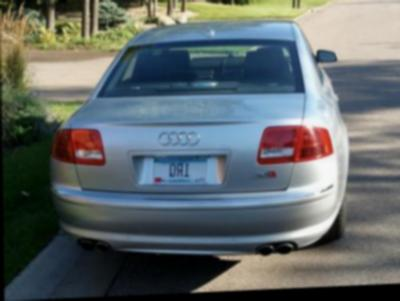License_Plate: (148, 155, 213, 185)
